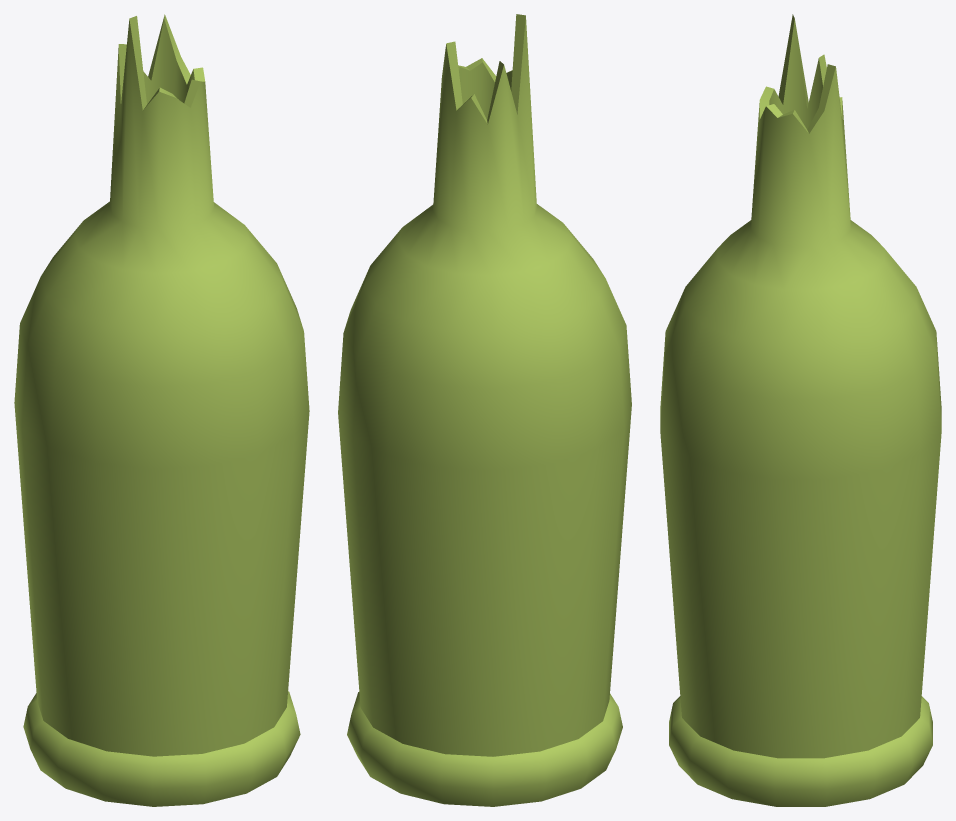
File: Botella_04.001.fbx
3 views of the same model, side by side, from view 1: azimuth 30°, elevation 25°; view 2: azimuth 150°, elevation 25°; view 3: azimuth 270°, elevation 25° (orthographic). The views are drawn at different scales.
Parts seen in each view (by area): view 1: Botella_04.001; view 2: Botella_04.001; view 3: Botella_04.001.
Part boxes in pixels (x1=…): Botella_04.001: x1=14, y1=14, x2=309, y2=806; Botella_04.001: x1=338, y1=14, x2=631, y2=806; Botella_04.001: x1=660, y1=14, x2=941, y2=806.
Bounding box in the file's own units: 27.8 × 78.94 × 27.8.
